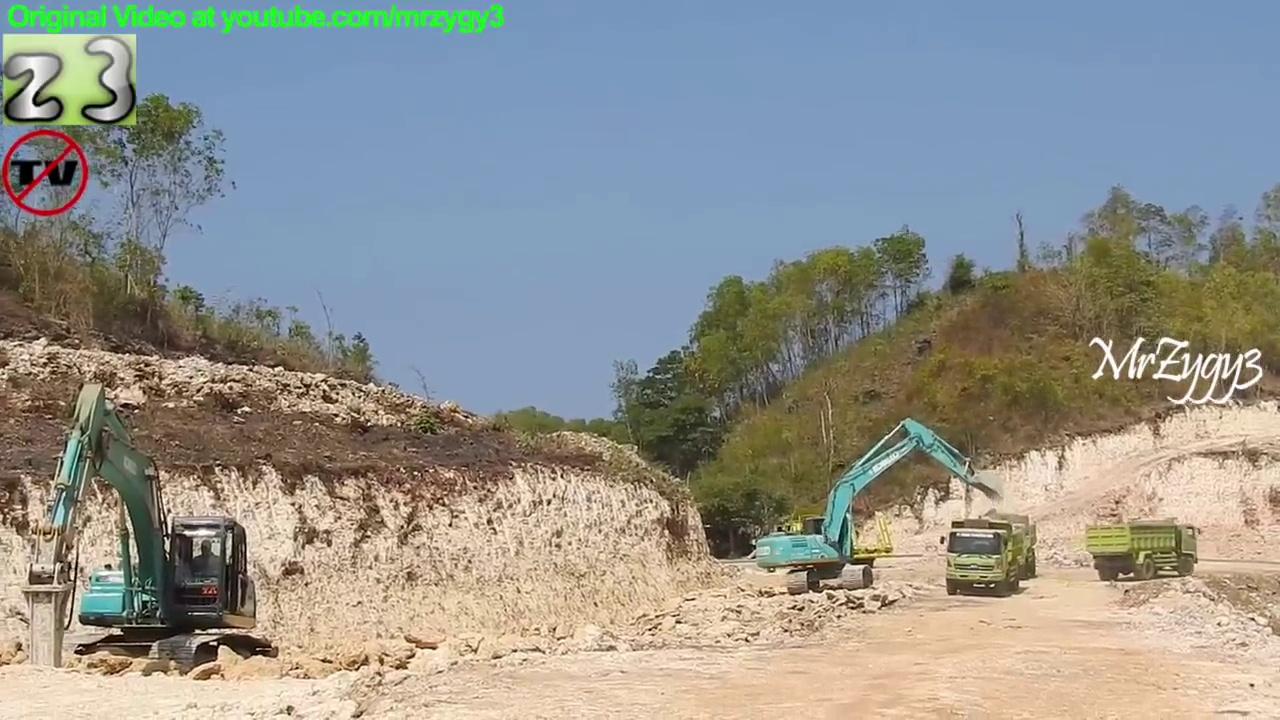excavator: (743, 412, 1010, 598)
excavator breaker: (20, 379, 281, 685)
truck: (1081, 516, 1206, 586), (938, 514, 1026, 600), (953, 507, 1041, 590)
